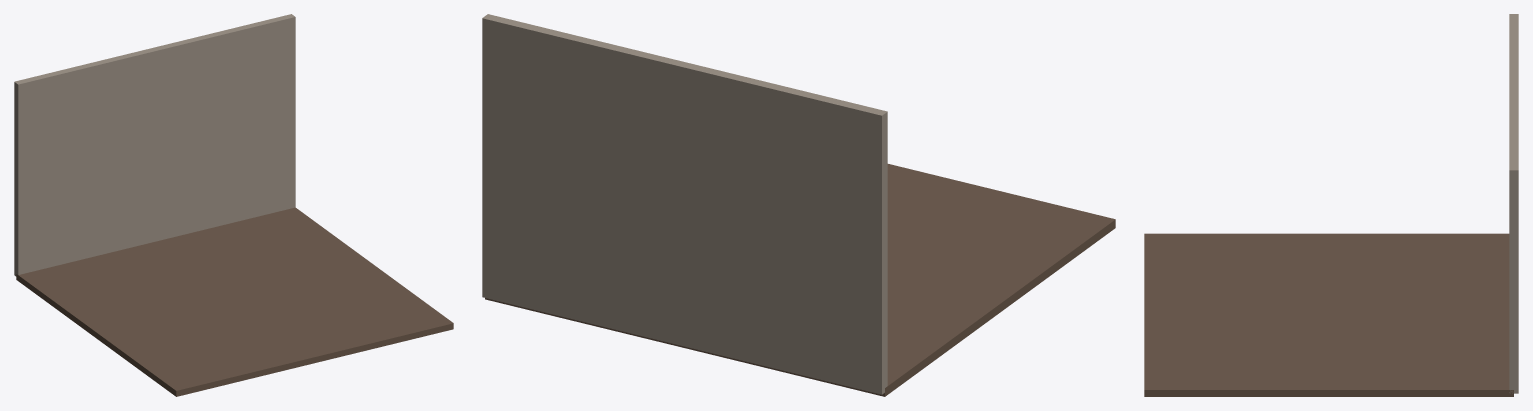
File: hallway_tjunction.fbx
The picture shows the model from 3 angles, left to right: view 1: azimuth 30°, elevation 25°; view 2: azimuth 150°, elevation 25°; view 3: azimuth 270°, elevation 25°; orthographic projection. The views are drawn at different scales.
Visible parts, largest first — view 1: Wall_Back, Floor; view 2: Wall_Back, Floor; view 3: Floor, Wall_Back.
Boxes of the visible parts, left/top/right/bottom form: Wall_Back: left=14, top=14, right=295, bottom=276; Floor: left=16, top=207, right=453, bottom=396; Wall_Back: left=482, top=14, right=887, bottom=394; Floor: left=485, top=164, right=1115, bottom=396; Floor: left=1144, top=233, right=1513, bottom=396; Wall_Back: left=1509, top=14, right=1518, bottom=393.
Bounding box in the file's own units: 24 × 16.25 × 24.3.
